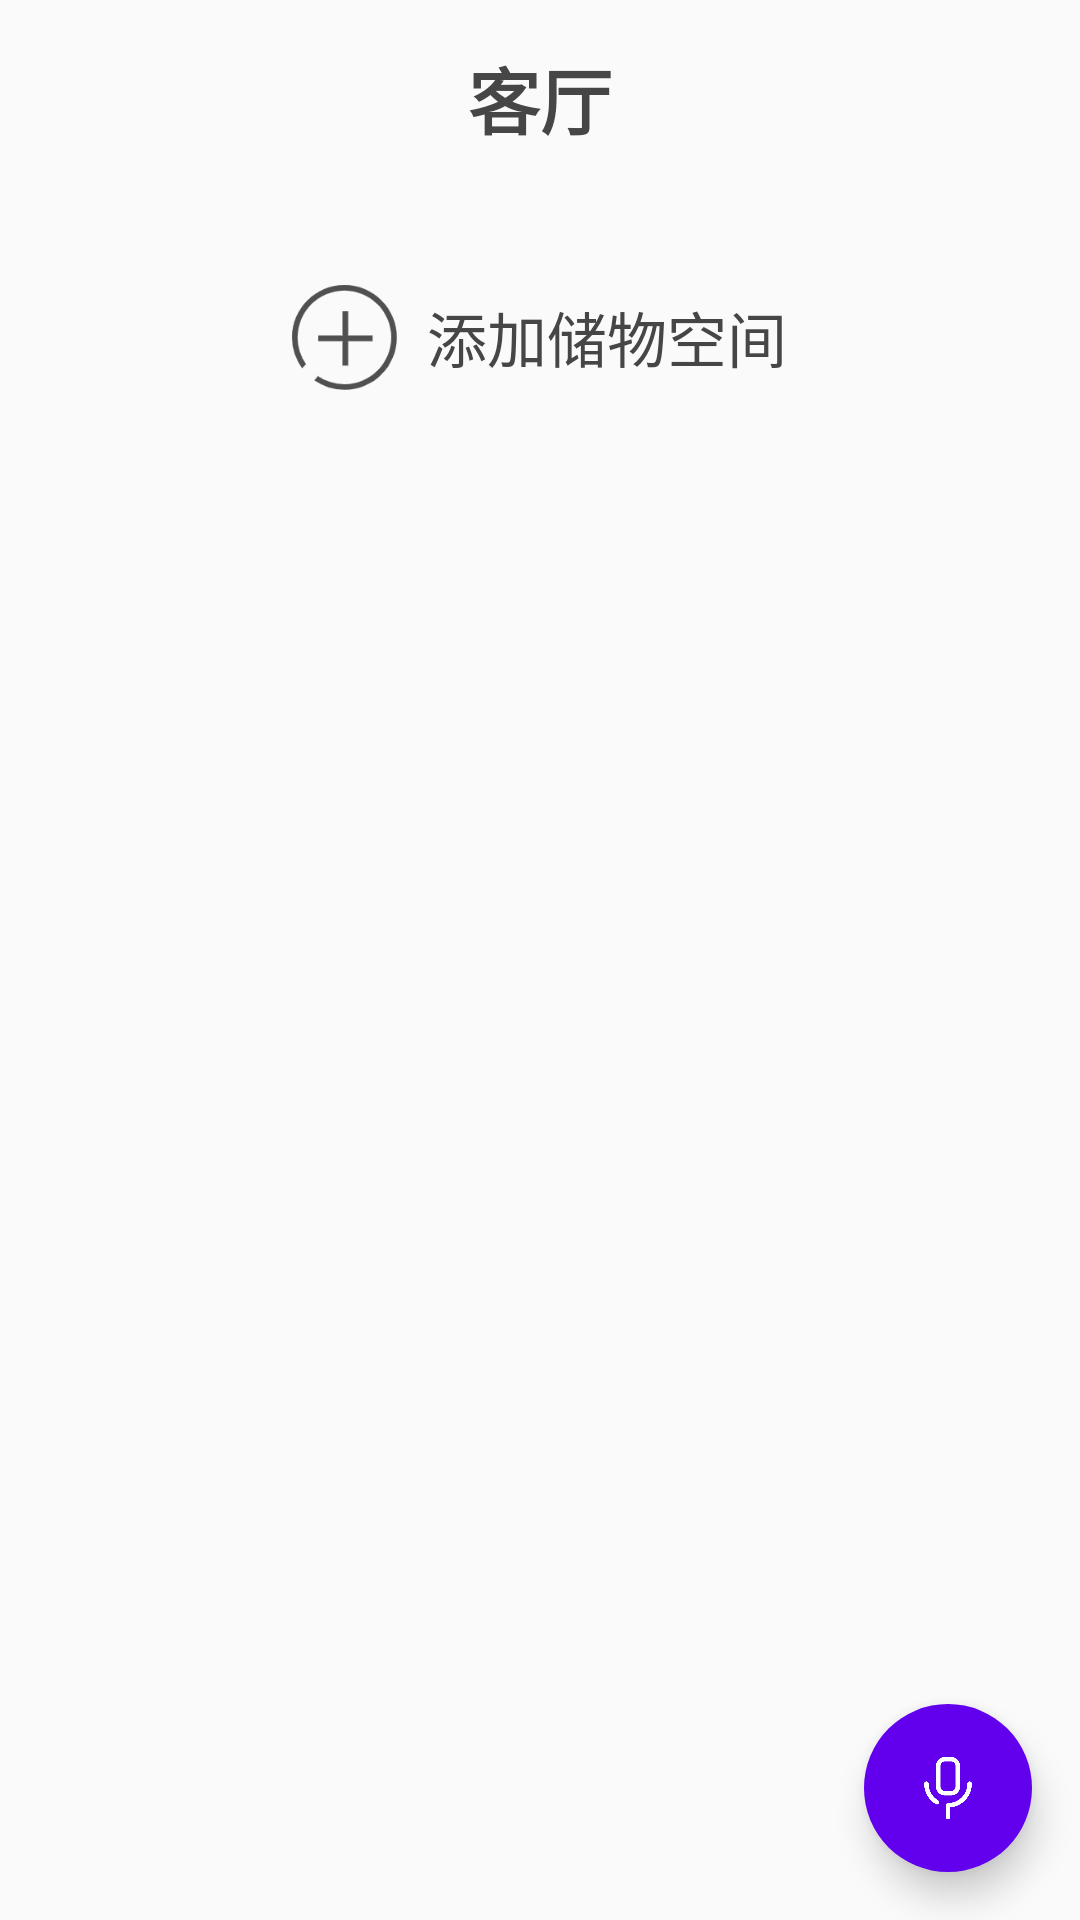

Icons on this 1080px x 1920px Android screen, each with its box as (x1, y1, x2, y2):
add: (292, 285, 397, 390)
audio: (864, 1704, 1032, 1872)
